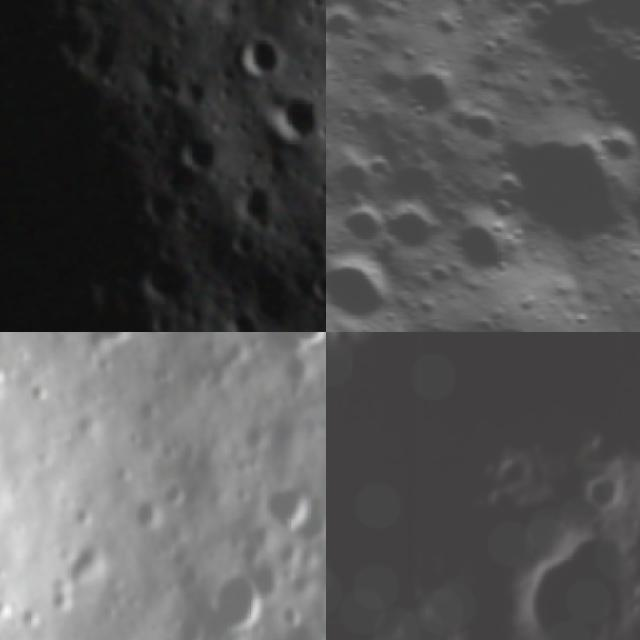crater: (480, 106, 640, 277), (511, 534, 640, 640), (431, 199, 535, 303), (326, 239, 407, 332), (326, 141, 399, 228), (379, 149, 458, 227), (390, 55, 468, 133), (380, 194, 454, 268), (442, 96, 512, 168), (211, 565, 273, 640), (336, 193, 401, 257), (262, 476, 320, 540), (590, 109, 640, 178), (267, 90, 326, 145), (62, 532, 109, 600), (135, 252, 192, 302), (231, 176, 283, 227), (232, 32, 284, 78), (165, 128, 222, 169), (326, 0, 368, 55), (578, 474, 626, 514), (138, 183, 179, 223), (621, 187, 640, 270), (134, 487, 164, 529), (268, 600, 304, 634), (491, 458, 539, 482), (280, 332, 326, 357), (221, 307, 260, 332), (302, 269, 326, 309), (480, 491, 522, 513), (493, 0, 552, 12), (326, 332, 356, 348), (364, 631, 389, 640)
